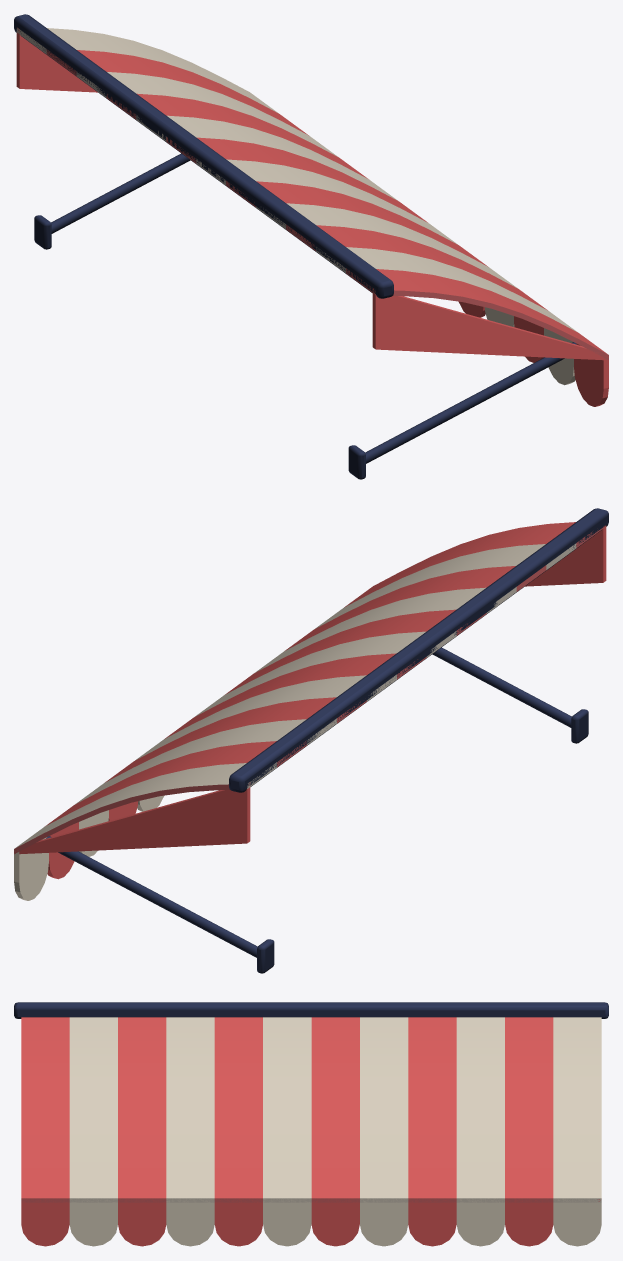
The model's file is awning.glb.
3 views of the same model, one above another, from view 1: azimuth 30°, elevation 25°; view 2: azimuth 150°, elevation 25°; view 3: azimuth 270°, elevation 25° (orthographic). The views are drawn at different scales.
Visible parts, largest first — view 1: Awning; view 2: Awning; view 3: Awning.
Part boxes in pixels (bbox=[...]): Awning: bbox=[14, 14, 608, 479]; Awning: bbox=[14, 508, 608, 973]; Awning: bbox=[14, 1002, 608, 1246].
Size of the model in its own units: 0.9 by 0.78 by 2.46.
